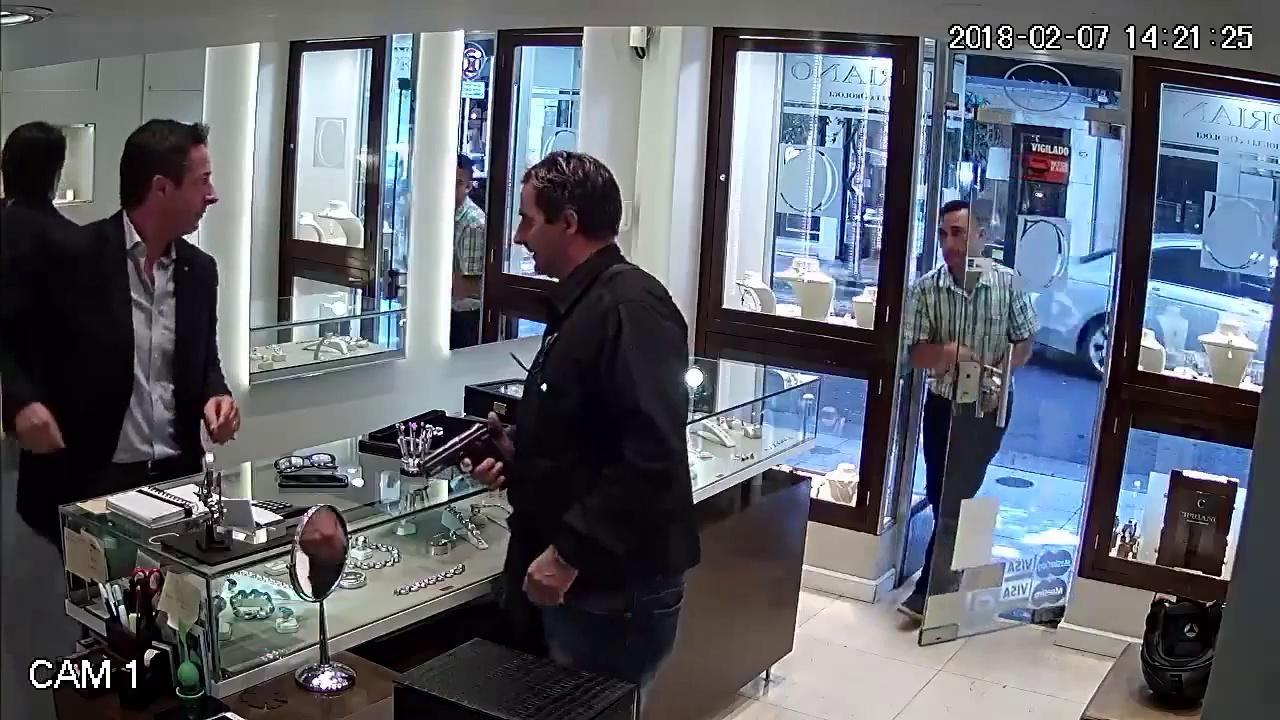Guns: (397, 393, 524, 507)
